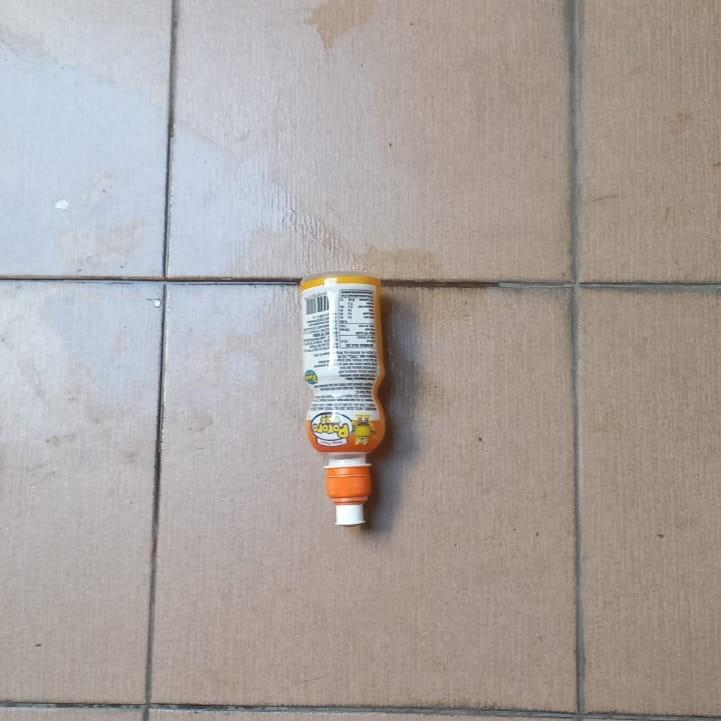Plastik: (299, 270, 388, 526)
